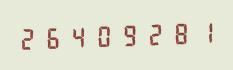eight: (167, 18, 191, 47)
four: (67, 21, 91, 50)
nine: (117, 19, 141, 49)
one: (192, 17, 216, 46)
six: (42, 22, 66, 51)
two: (17, 23, 41, 52), (142, 19, 166, 48)
zero: (92, 20, 116, 49)
